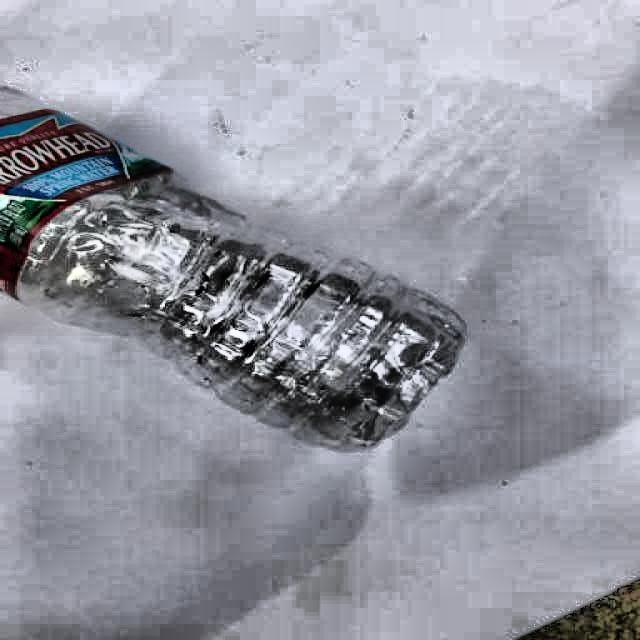plastic: (0, 86, 464, 449)
